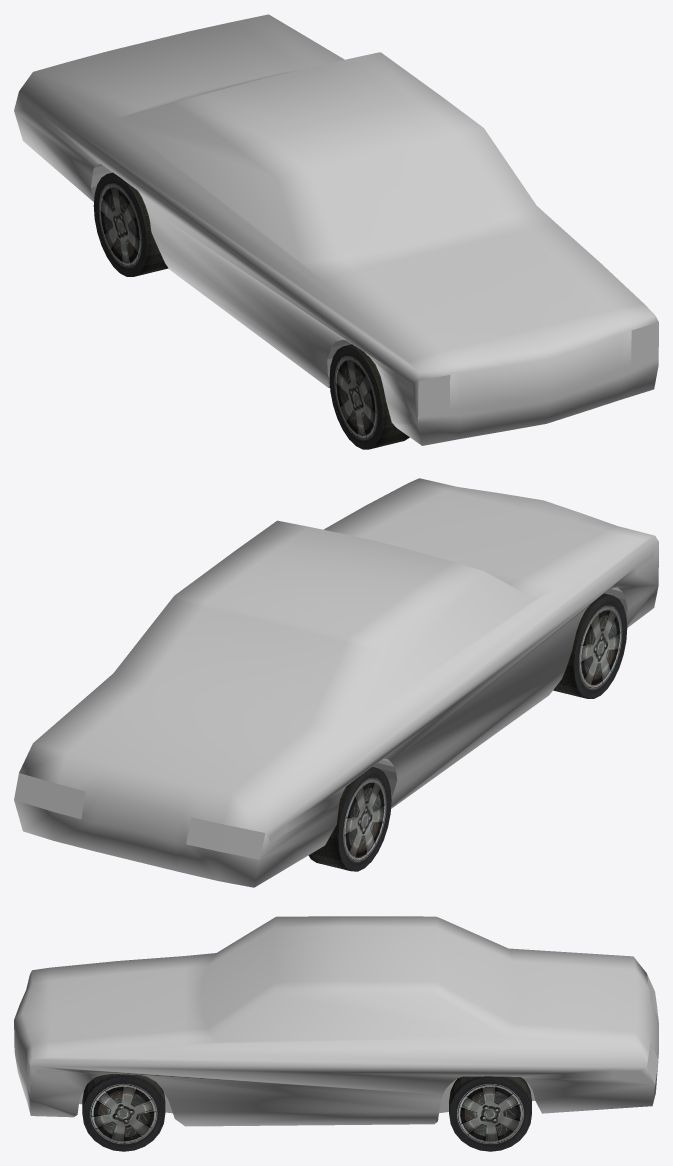
File: GranFury.fbx
3 renders of one model, top to bottom at view 1: azimuth 30°, elevation 25°; view 2: azimuth 150°, elevation 25°; view 3: azimuth 270°, elevation 25°, orthographic. The views are drawn at different scales.
Parts seen in each view (by area): view 1: Fury, FR, BR, Fury.001; view 2: Fury, BR, FR, Fury.001; view 3: Fury, FL, BL, Fury.001.
Part boxes in pixels (bbox=[...]): Fury: bbox=[14, 14, 658, 445]; FR: bbox=[329, 344, 409, 449]; BR: bbox=[93, 172, 168, 276]; Fury.001: bbox=[24, 102, 658, 416]; Fury: bbox=[14, 478, 658, 887]; BR: bbox=[308, 767, 391, 871]; FR: bbox=[553, 593, 627, 698]; Fury.001: bbox=[14, 553, 658, 859]; Fury: bbox=[14, 916, 658, 1126]; FL: bbox=[82, 1074, 165, 1151]; BL: bbox=[449, 1076, 531, 1151]; Fury.001: bbox=[27, 974, 658, 1092].
Bounding box in the file's own units: 2.16 × 1.64 × 6.3.
